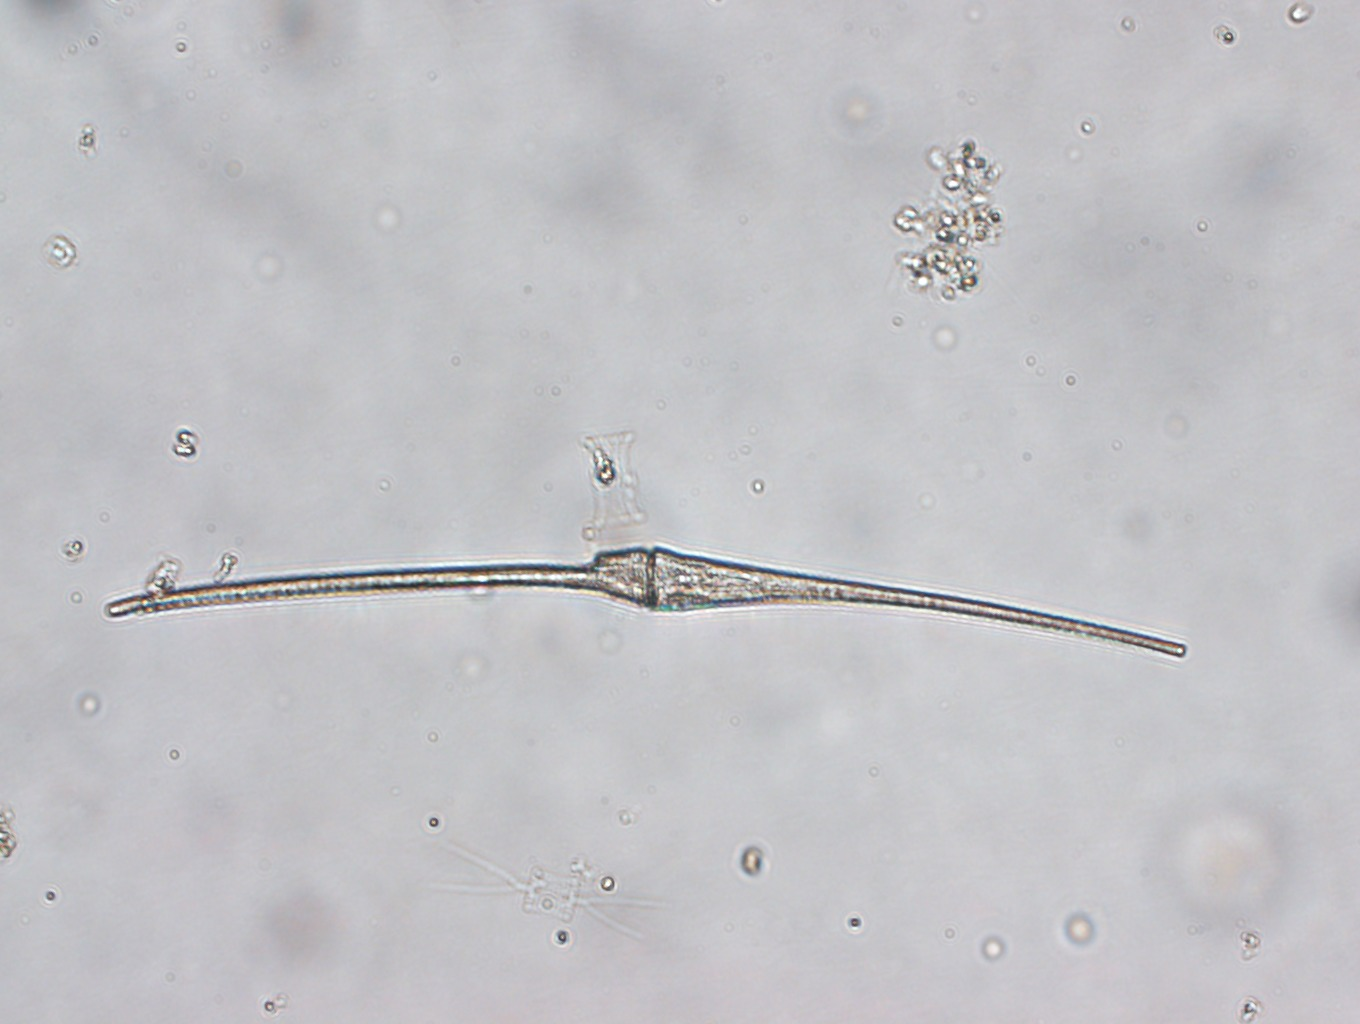ceratium fusus: (102, 543, 1189, 665)
